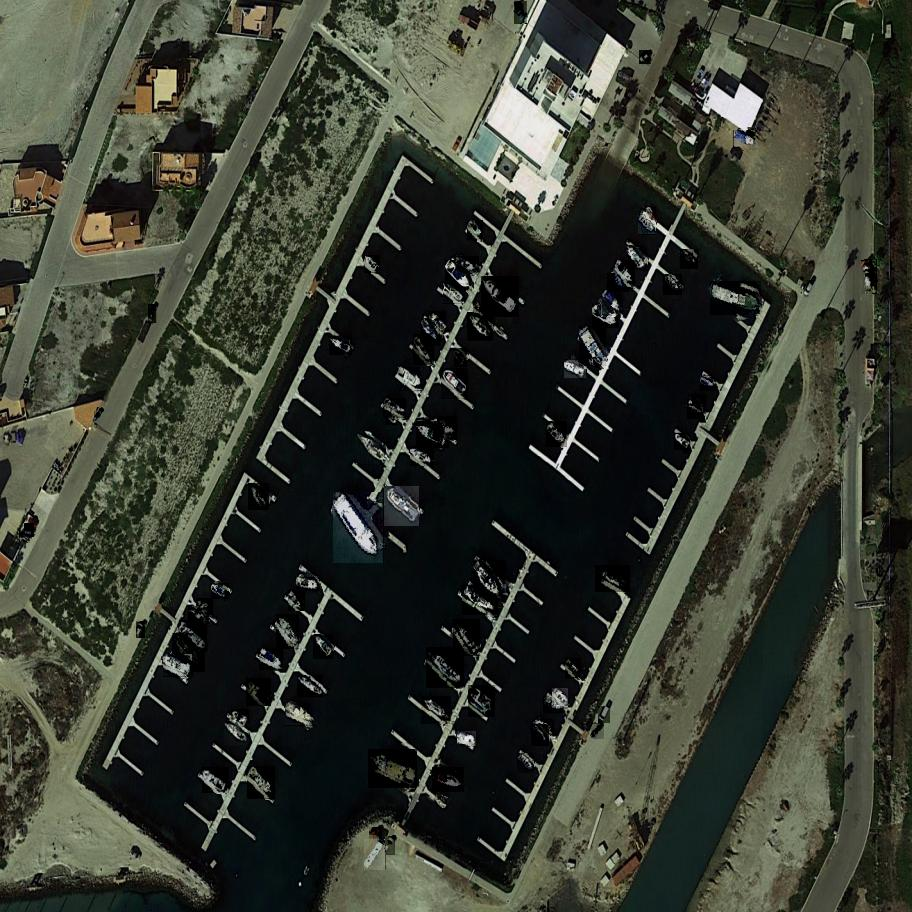large-vehicle: (363, 839, 387, 870), (861, 259, 878, 295)
ship: (332, 492, 388, 563), (366, 750, 421, 789), (707, 281, 764, 315), (478, 277, 522, 318), (425, 647, 467, 689), (382, 487, 422, 527), (472, 560, 508, 602), (171, 634, 207, 672), (354, 431, 391, 466), (461, 585, 501, 616), (578, 327, 608, 367), (452, 619, 482, 656), (413, 421, 452, 449), (177, 621, 210, 654), (443, 260, 475, 294), (246, 767, 278, 800), (593, 566, 633, 592), (465, 686, 498, 717), (419, 696, 453, 724), (274, 614, 301, 649), (440, 368, 470, 399), (430, 768, 467, 793), (465, 312, 496, 341), (283, 703, 319, 727), (200, 767, 231, 794), (590, 304, 622, 328), (223, 720, 253, 745), (161, 655, 195, 677), (412, 334, 435, 366), (245, 679, 272, 706), (395, 368, 425, 391), (295, 675, 325, 698), (614, 261, 638, 289), (600, 291, 624, 318), (420, 318, 443, 346), (545, 422, 569, 448), (248, 484, 271, 511), (626, 245, 649, 271), (258, 649, 286, 670), (442, 283, 466, 306), (313, 634, 335, 659), (409, 447, 436, 467), (381, 398, 408, 418), (435, 417, 458, 440), (732, 131, 760, 149), (563, 360, 589, 379), (606, 273, 631, 292), (455, 256, 481, 274), (328, 338, 354, 356), (531, 724, 551, 747), (187, 606, 212, 624), (663, 275, 684, 296), (678, 249, 699, 269), (294, 577, 322, 592), (429, 311, 447, 334), (516, 753, 535, 774), (288, 590, 307, 611), (229, 710, 251, 728), (638, 215, 656, 236), (466, 220, 484, 241), (210, 583, 231, 600), (542, 698, 565, 713), (363, 255, 381, 274), (551, 689, 569, 708), (565, 659, 582, 679), (194, 599, 214, 615), (673, 434, 691, 451), (453, 348, 469, 367), (692, 394, 707, 414), (534, 719, 555, 733), (456, 731, 478, 744), (685, 405, 705, 419), (699, 377, 718, 390), (385, 413, 398, 425), (647, 207, 658, 221), (594, 358, 605, 369), (473, 302, 482, 314)
small-vehicle: (515, 1, 529, 24), (589, 724, 605, 739), (638, 51, 655, 65), (803, 280, 817, 297), (598, 707, 612, 724), (23, 523, 38, 538), (386, 837, 398, 855), (94, 408, 107, 424), (369, 828, 385, 841), (617, 71, 634, 83), (26, 516, 40, 529), (149, 304, 158, 323), (18, 531, 33, 542), (137, 622, 146, 638)
